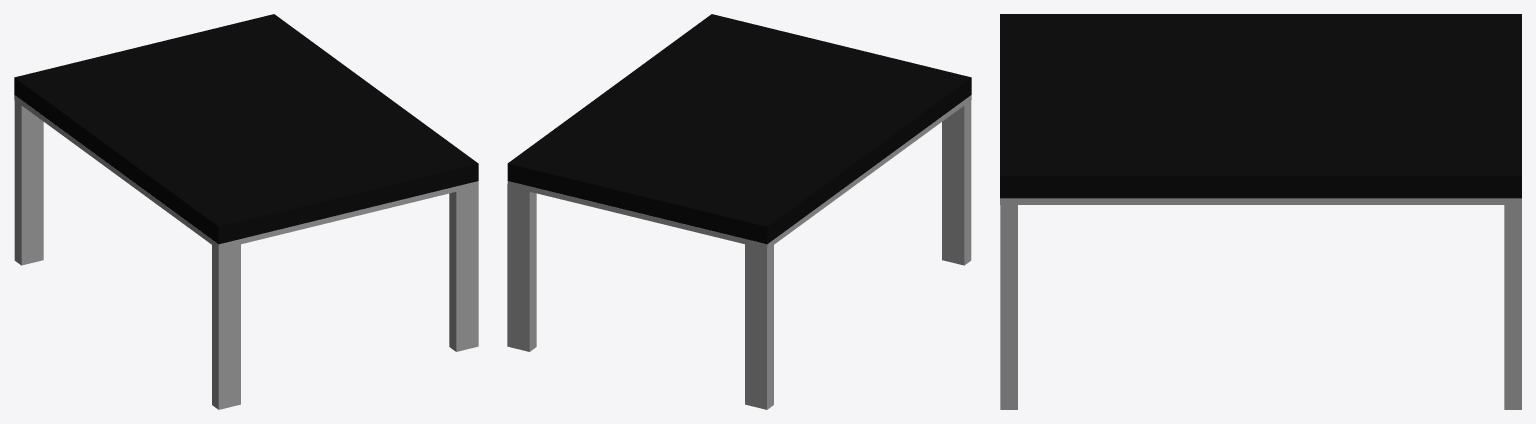
The model's file is Table 2.FBX.
3 renders of one model, left to right at view 1: azimuth 30°, elevation 25°; view 2: azimuth 150°, elevation 25°; view 3: azimuth 270°, elevation 25°, orthographic. The views are drawn at different scales.
Visible parts, largest first — view 1: table 2; view 2: table 2; view 3: table 2.
Part boxes in pixels (box(x1,y1,x2,y2)): table 2: box(14, 14, 478, 409); table 2: box(507, 14, 971, 409); table 2: box(1000, 14, 1521, 409).
Size of the model in its own units: 440 by 296 by 599.
2 materials, 1 textured.
